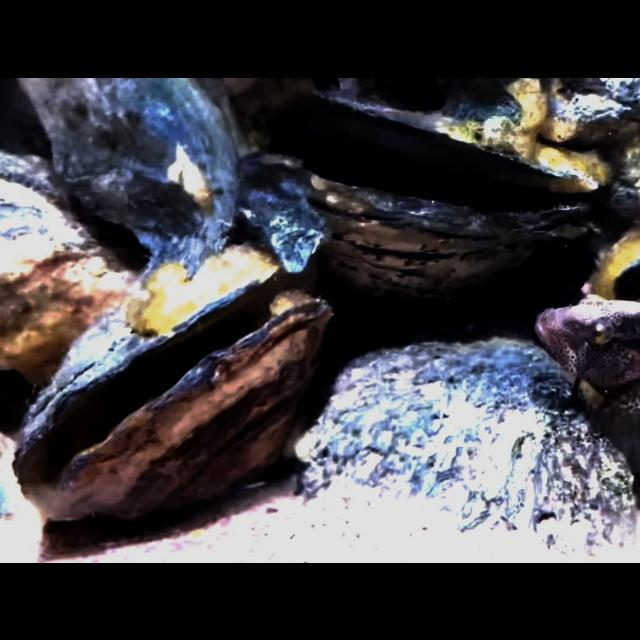Oyster-Closed: (21, 77, 245, 243), (0, 173, 138, 385)
Oyster-Open: (9, 242, 338, 526), (225, 77, 602, 303)
